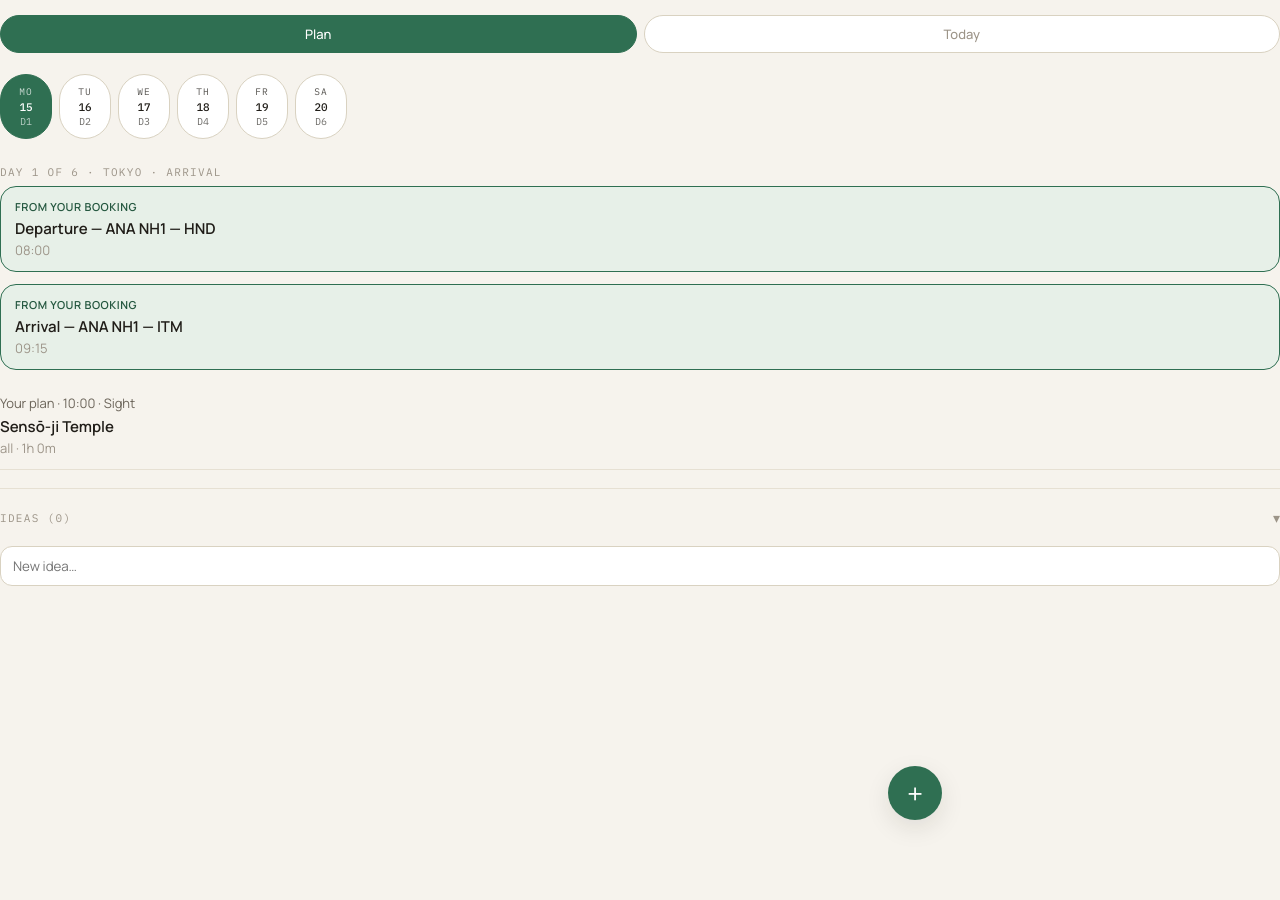
Scenario: ItineraryTab — auto-pulled entries stay read-only projections › Edit from an auto-pulled flight's View opens the exact same Flight record in the real FlightForm
Click the button "FROM YOUR BOOKING Departure — ANA NH1 — HND 08:00": (76, 206) [0,186,1279,272]
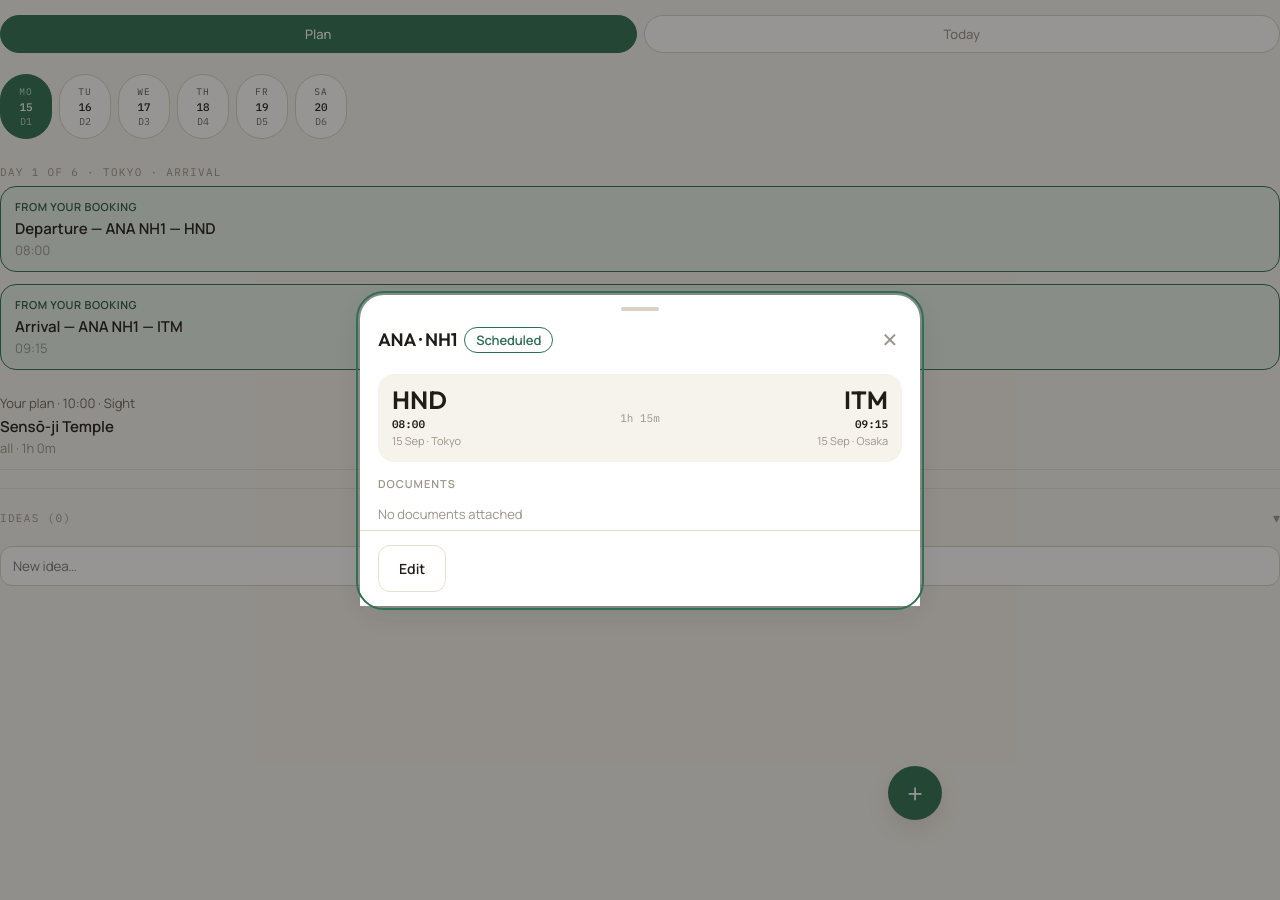
Click the button "Edit": (412, 568) [378,544,446,592]
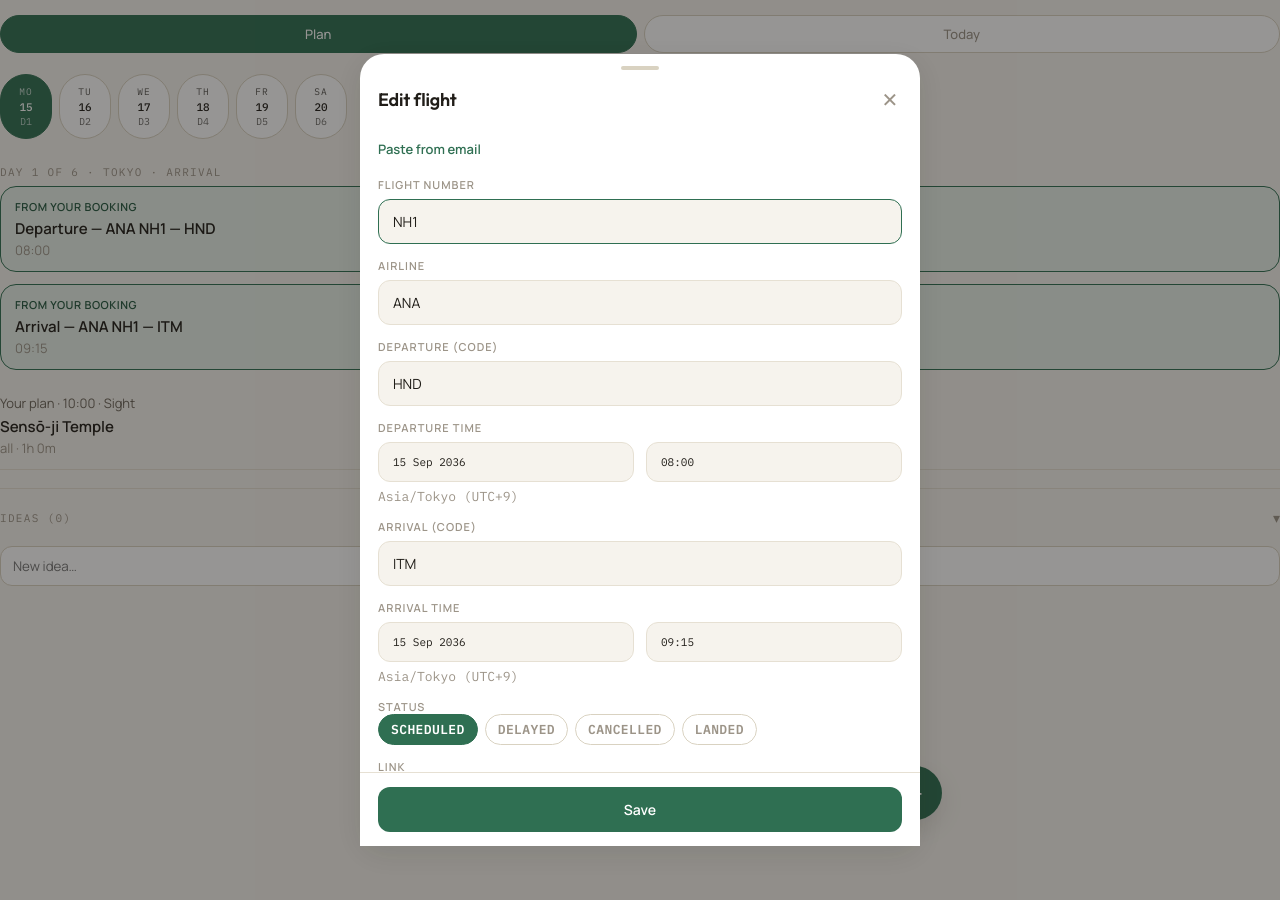
Expected: the text "Edit flight" is shown, [378,88,457,110]
Expected: the field labelled "Airline" holds "ANA", [378,280,902,325]
